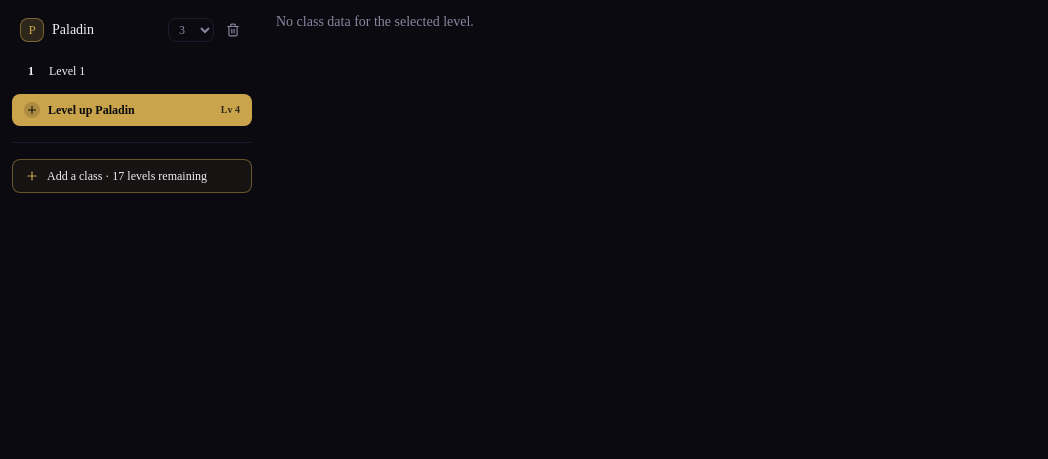
Test: ClassStepRail — multiclass picker › opens the ClassPickerPanel when the unlocked AddClassRow is clicked
This screenshot has width=1048, height=459.
Click the button "Add a class · 17 levels remaining" at (132, 176), box [12, 159, 252, 193]
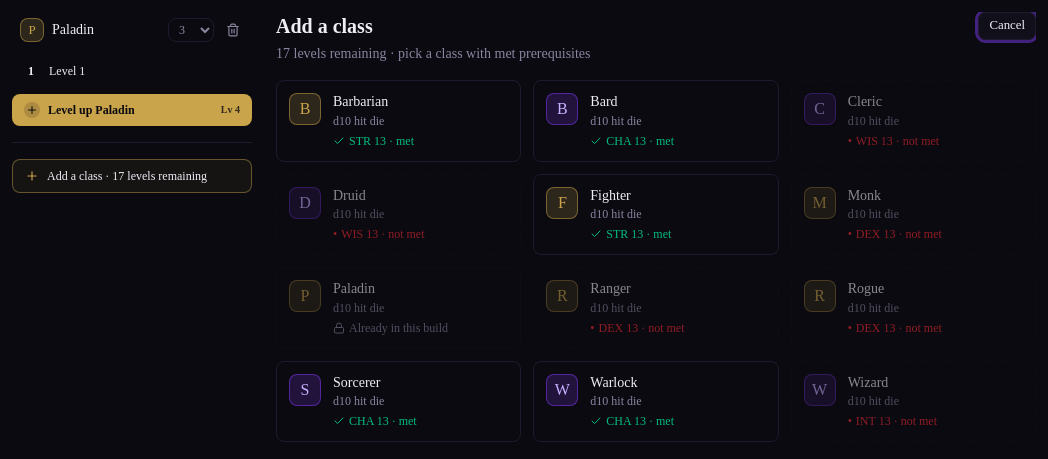
expect the heading "Add a class" is shown: met, box [276, 15, 373, 37]
